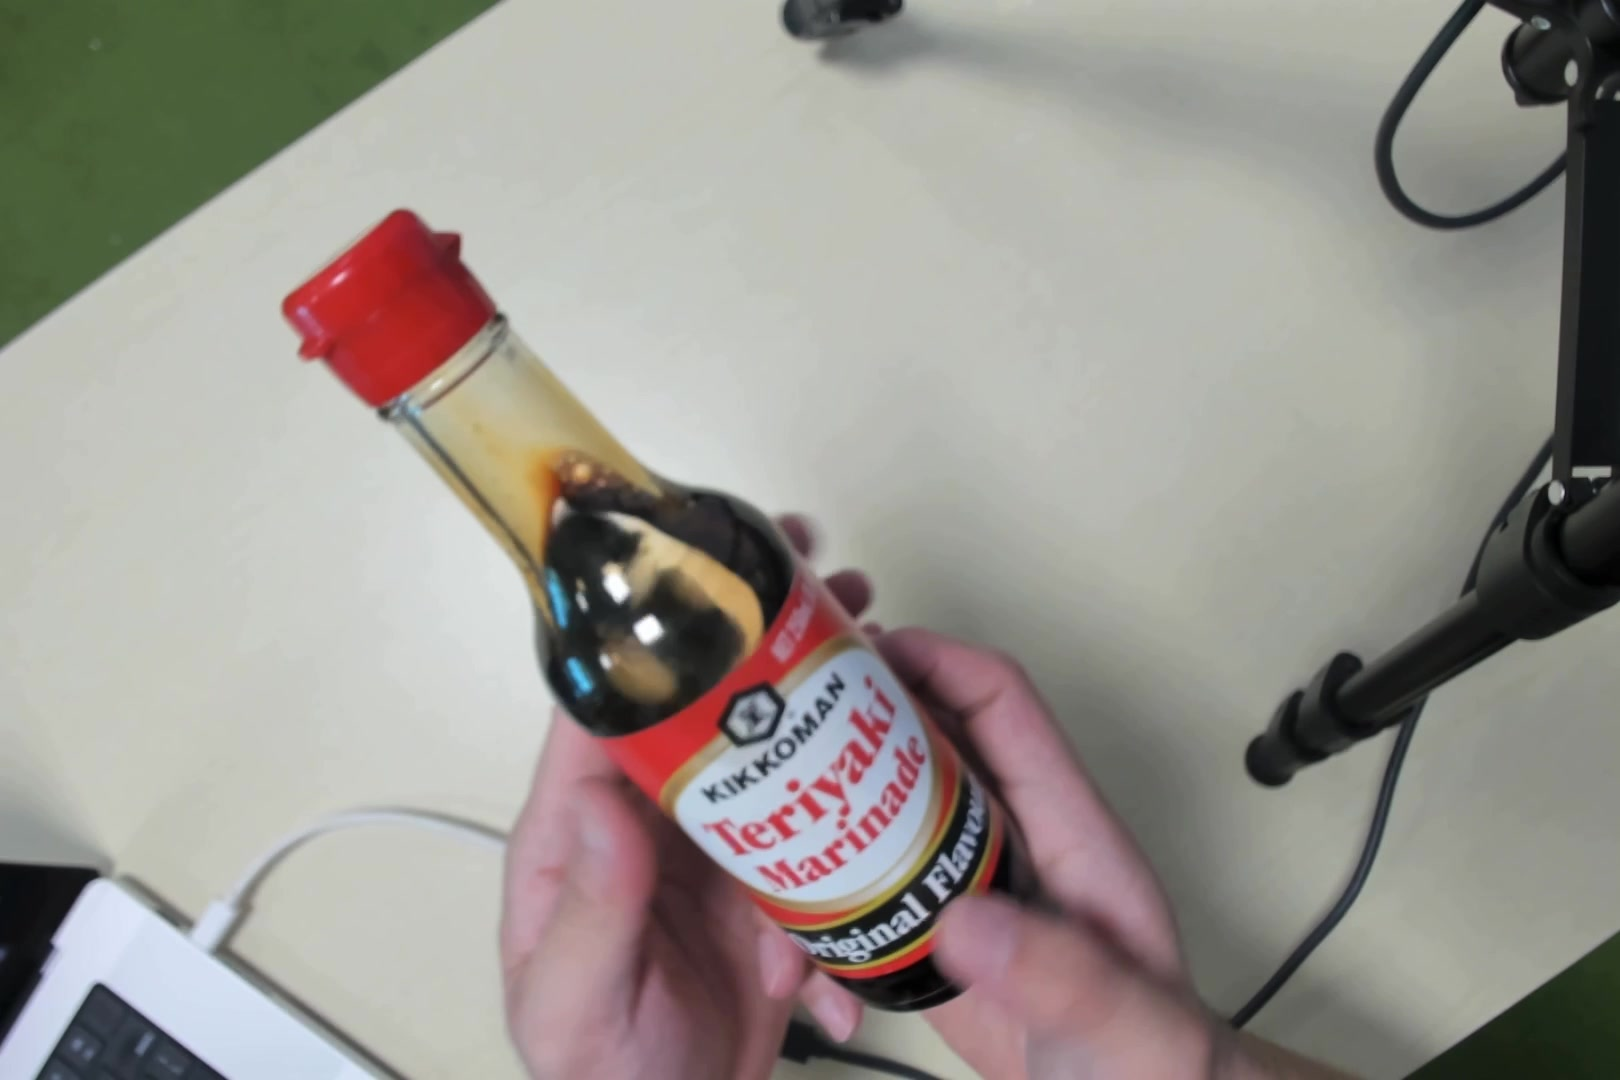OtherSauceDressingSoupbasePaste_200-299g_NonHalal_NonHealthy: (438, 313, 959, 963)
